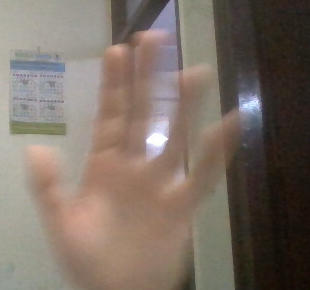move: (23, 27, 244, 285)
